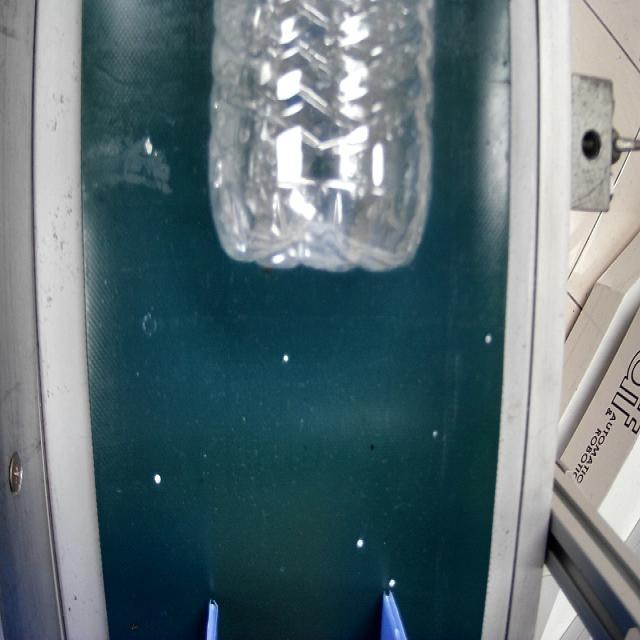Pet_Bottle: (208, 0, 433, 267)
